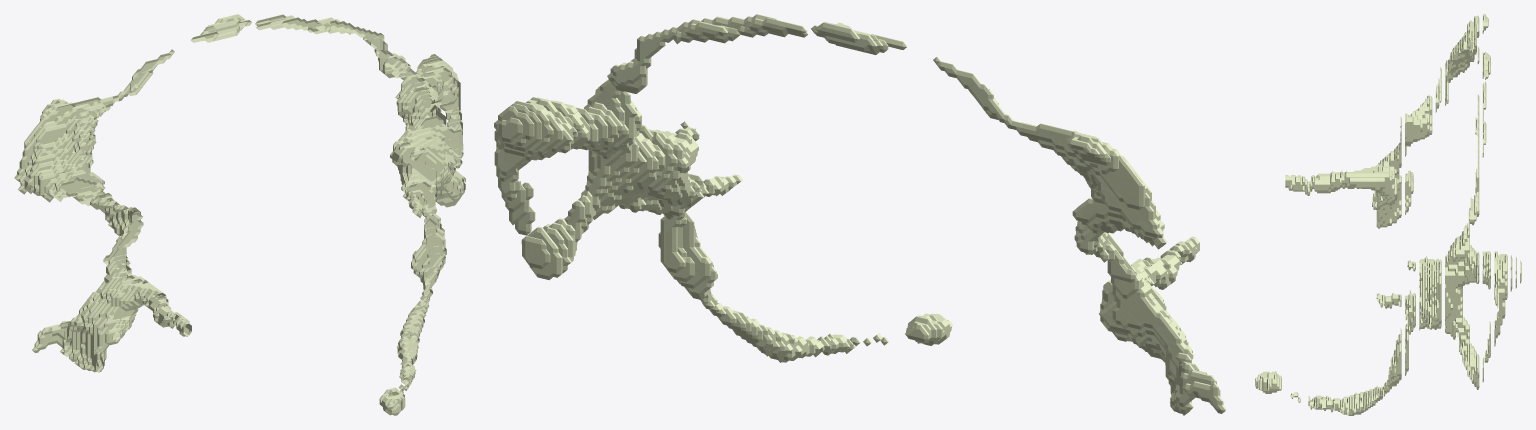
File: SVV_RMDL.gltf
3 renders of one model, left to right at view 1: azimuth 30°, elevation 25°; view 2: azimuth 150°, elevation 25°; view 3: azimuth 270°, elevation 25°, orthographic. The views are drawn at different scales.
Parts seen in each view (by area): view 1: RMDL; view 2: RMDL; view 3: RMDL.
Part boxes in pixels (x1,y1,x2,y2): RMDL: (14, 14, 465, 415); RMDL: (494, 14, 1226, 415); RMDL: (1255, 14, 1521, 415).
Size of the model in its own units: 85547 by 55833 by 43547.
